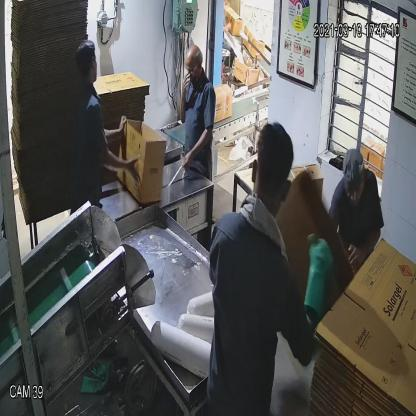glove: (302, 227, 331, 335)
no_glove: (99, 133, 149, 199), (344, 214, 385, 277), (172, 120, 212, 176), (175, 69, 193, 129)
